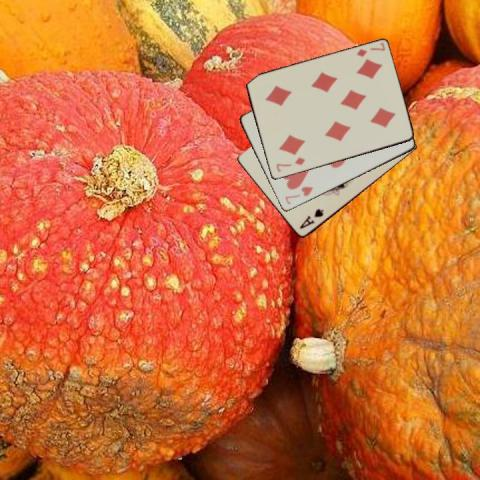7d: (353, 40, 386, 59), (273, 155, 307, 173)
7h: (282, 183, 315, 206)
As: (296, 206, 324, 231)
